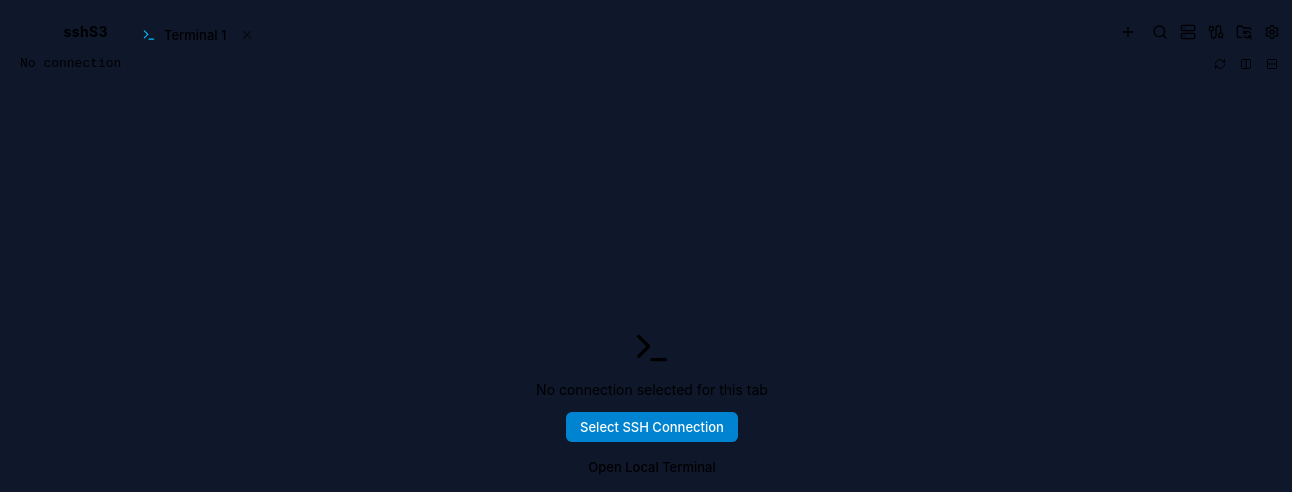
it: App Component › closes a tab and switches active tab when close button is clicked
The image size is (1292, 492).
Expected: the tab with test id "tab-term-1" is shown, x1=142 y1=22 x2=260 y2=48
# Add a second tab
Click the button with test id "add-tab-btn". click: (1128, 32)
box: x1=1116 y1=20 x2=1140 y2=44
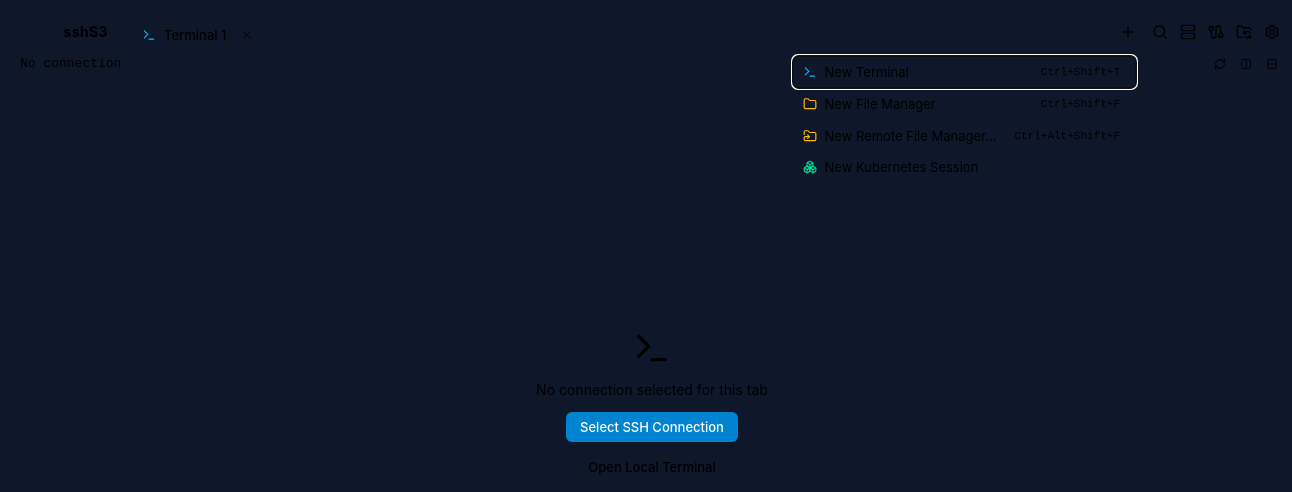
Click the menu item with test id "new-terminal-btn". click: (867, 72)
box: x1=792 y1=56 x2=1136 y2=88
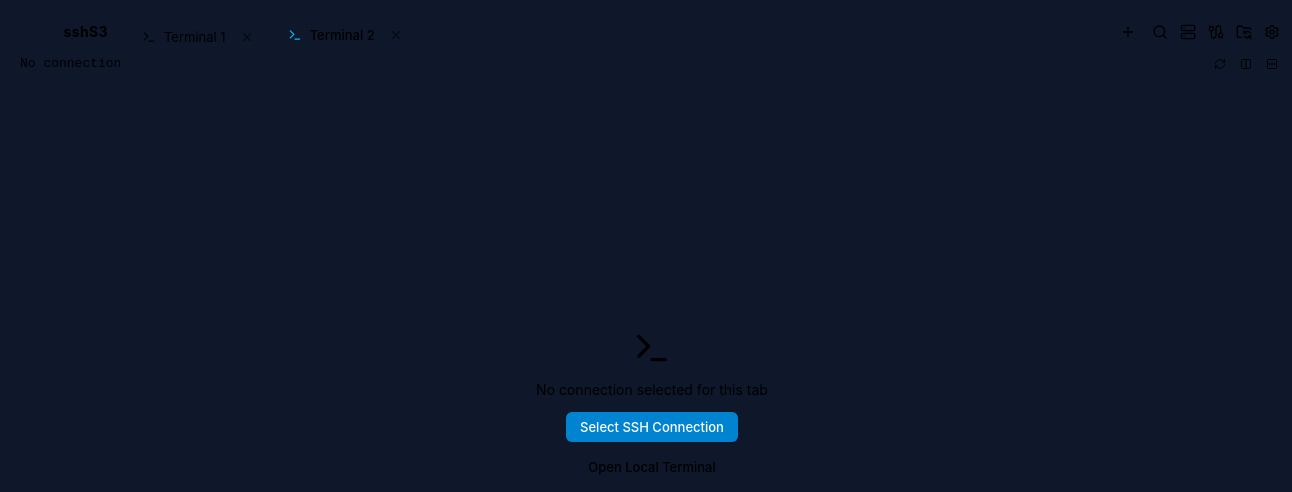
Now the number of tabs is 2, box x1=142 y1=24 x2=260 y2=50; x1=288 y1=22 x2=409 y2=48
# Close the second tab
Click the button with test id "^close-tab-". click: (396, 35)
box: x1=383 y1=22 x2=409 y2=48
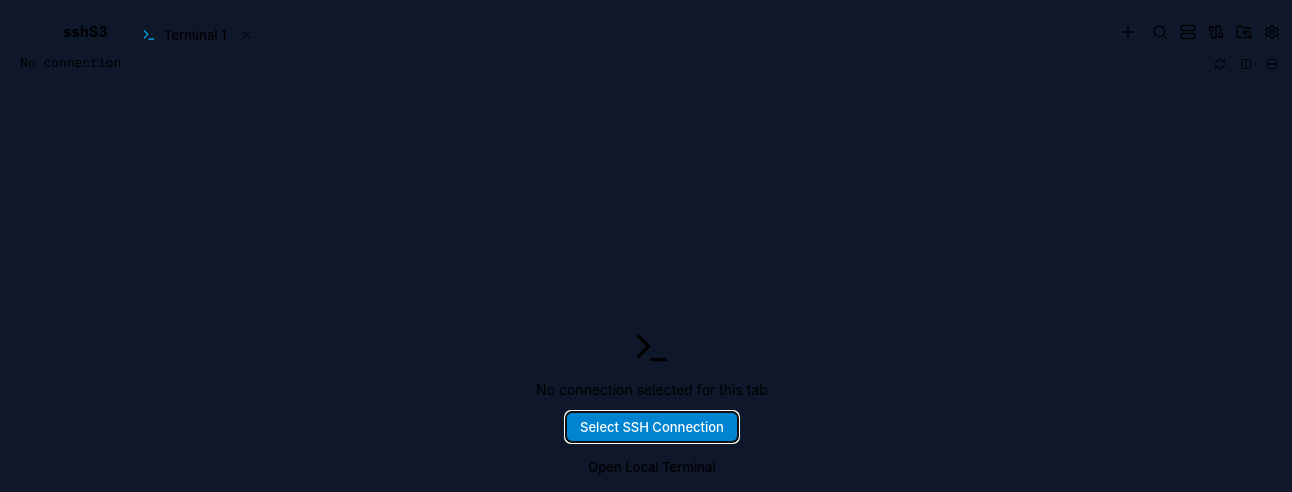
Now the number of tabs is 1, box x1=142 y1=22 x2=260 y2=48
